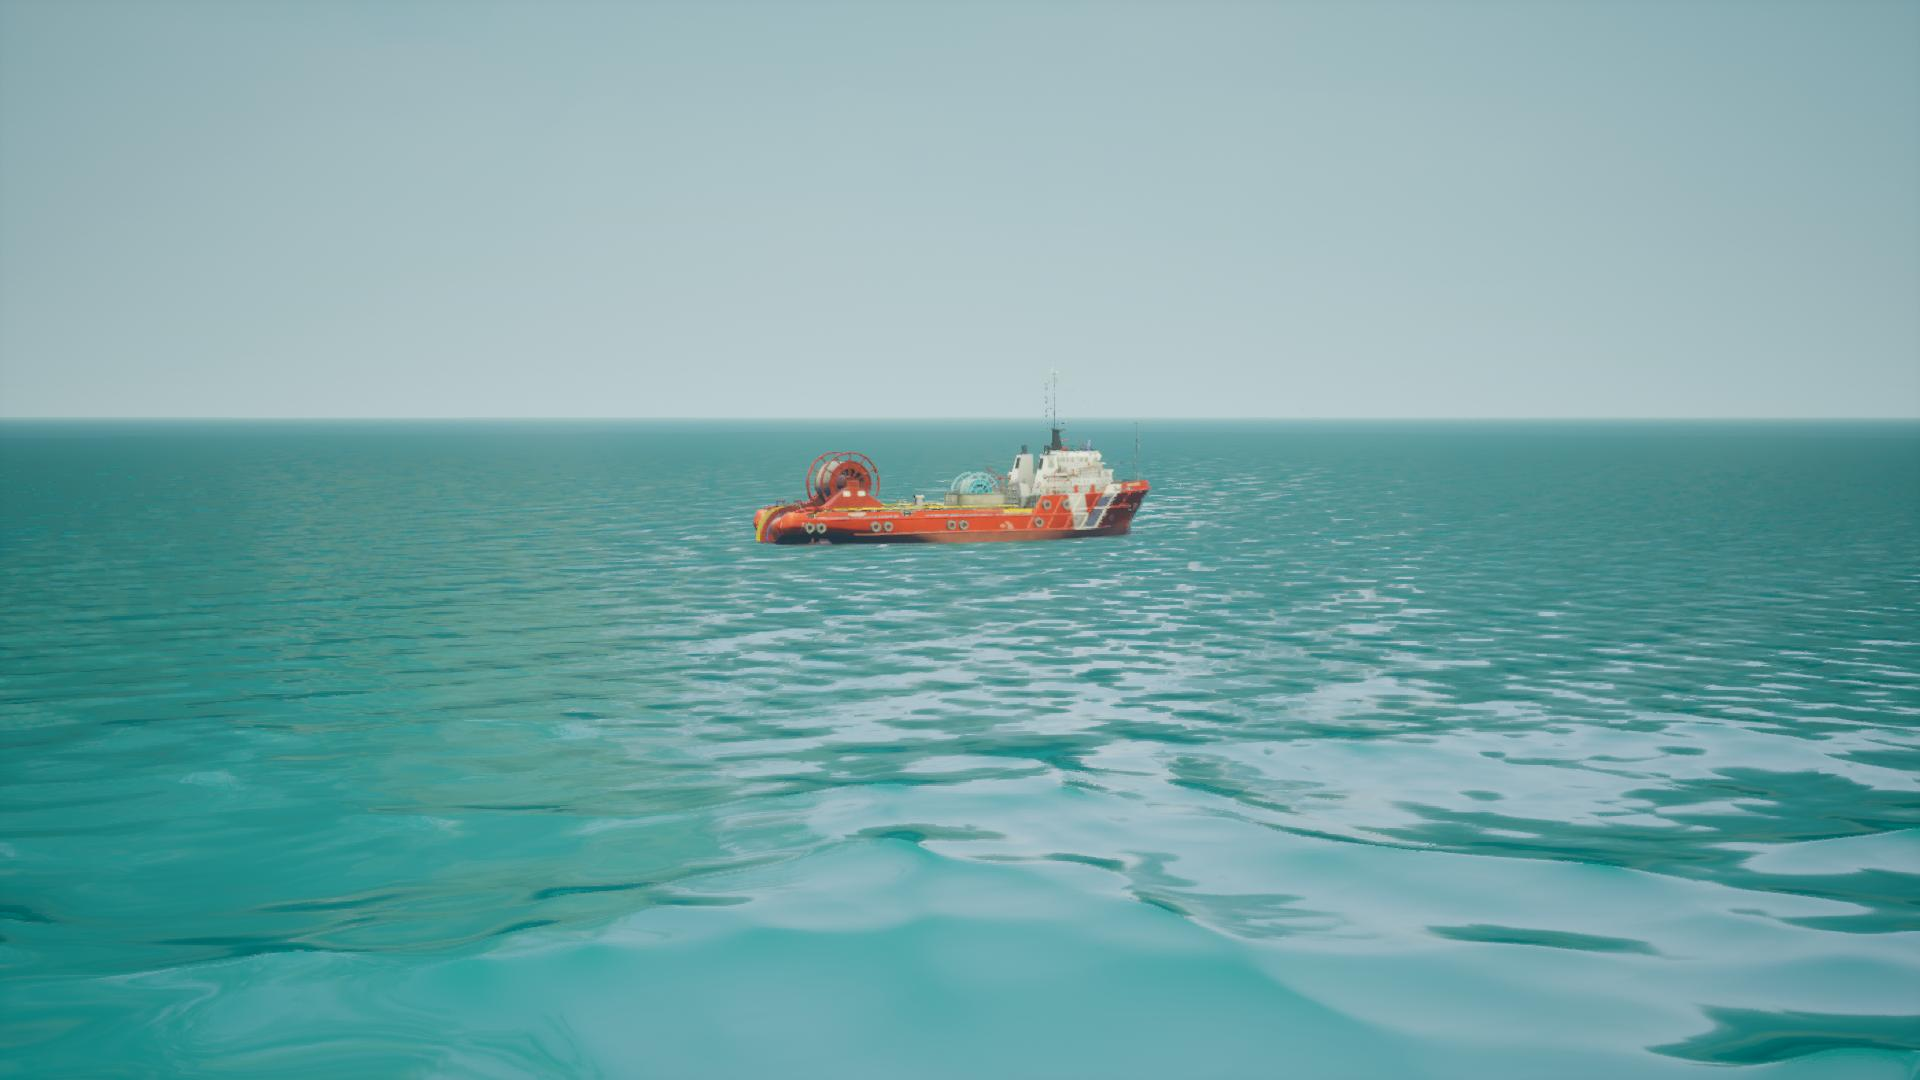Tug Boat: (750, 443, 1156, 545)
